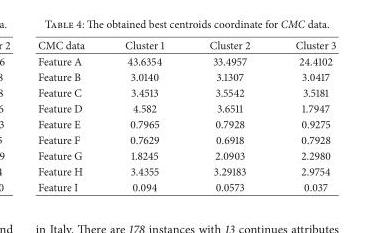table: (37, 36, 335, 194)
table column: (186, 36, 272, 194), (104, 36, 186, 194), (37, 36, 104, 194), (272, 36, 335, 194)
table column header: (37, 36, 335, 52)
table row: (37, 36, 335, 52), (37, 52, 335, 68), (37, 68, 335, 84), (37, 84, 335, 100), (37, 115, 335, 131), (37, 131, 335, 147), (37, 147, 335, 163), (37, 178, 335, 194), (37, 100, 335, 115), (37, 163, 335, 178)
